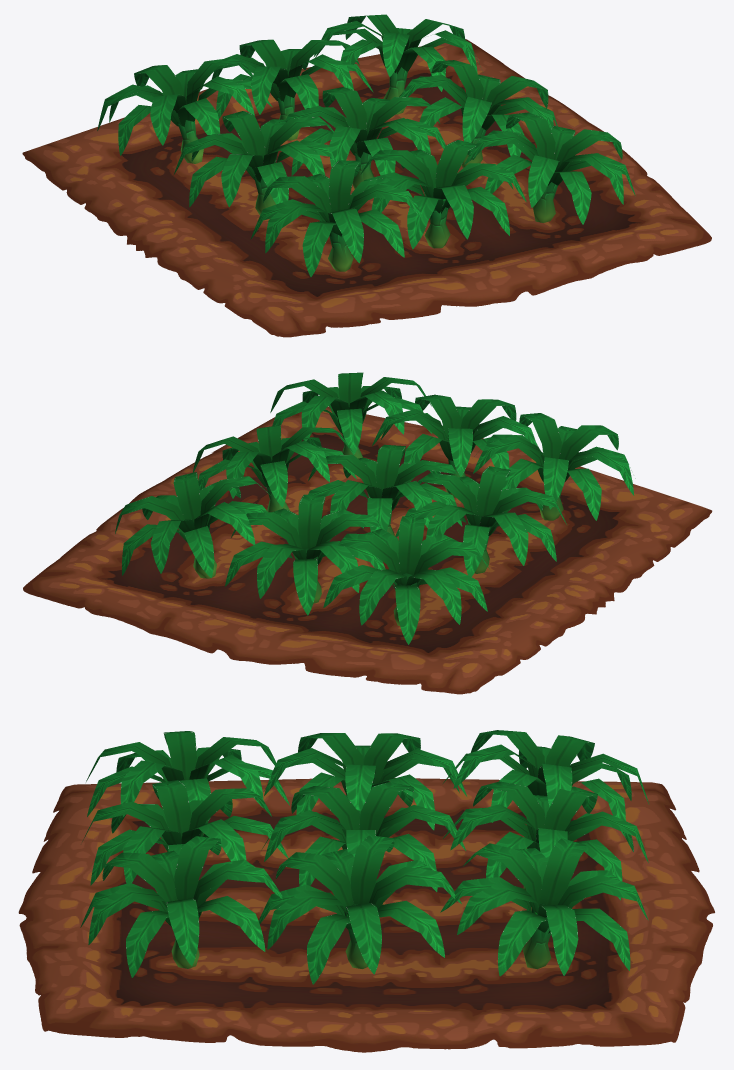
The model's file is Pineapple_Field_Lv2.FBX.
The picture shows the model from 3 angles, top to bottom: view 1: azimuth 30°, elevation 25°; view 2: azimuth 150°, elevation 25°; view 3: azimuth 270°, elevation 25°; orthographic projection. The views are drawn at different scales.
Parts seen in each view (by area): view 1: Pineapple_Field_Lv2; view 2: Pineapple_Field_Lv2; view 3: Pineapple_Field_Lv2.
Part boxes in pixels (box(x1,y1,x2,y2)): Pineapple_Field_Lv2: box(22, 14, 711, 337); Pineapple_Field_Lv2: box(23, 372, 712, 694); Pineapple_Field_Lv2: box(18, 730, 715, 1052).
Bounding box in the file's own units: 274 × 51.77 × 296.
